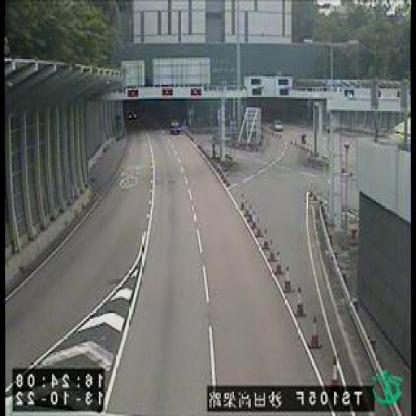Car: (168, 116, 180, 134), (273, 121, 284, 136)
